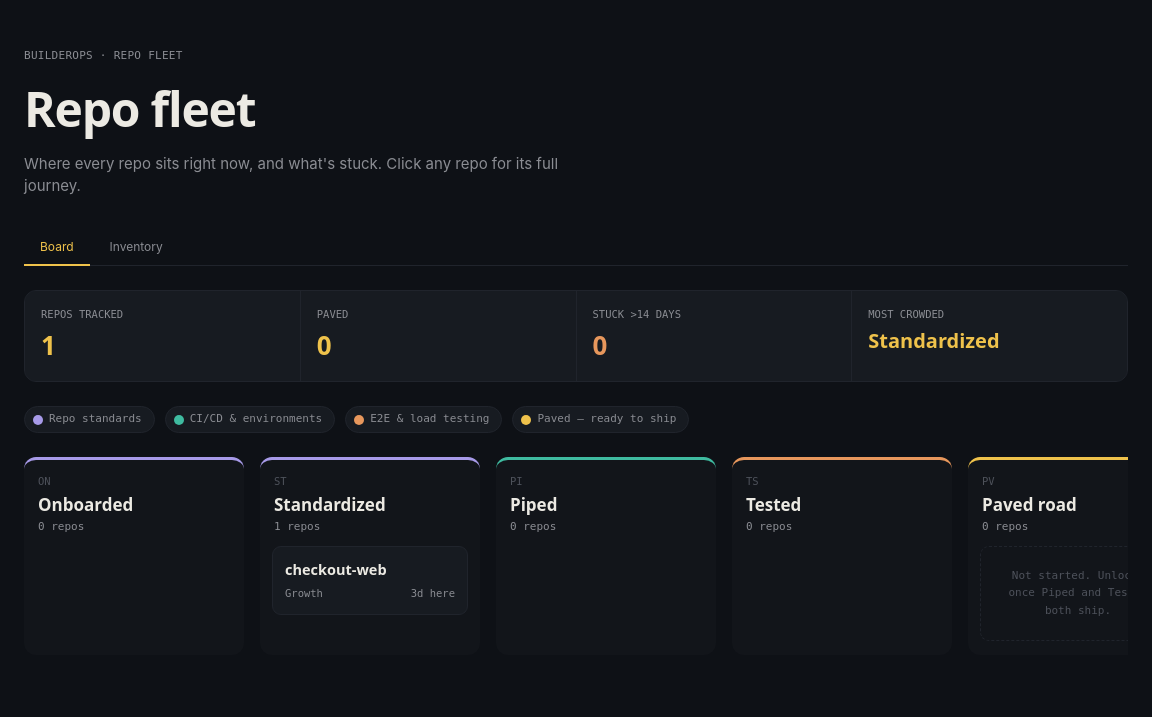
Scenario: FleetPage › navigates from the fleet board to a repo's Journey page on click
The width and height of the screenshot is (1152, 717).
Click the link "checkout-web Growth 3d here" at point(370, 580), box x1=272 y1=546 x2=468 y2=615
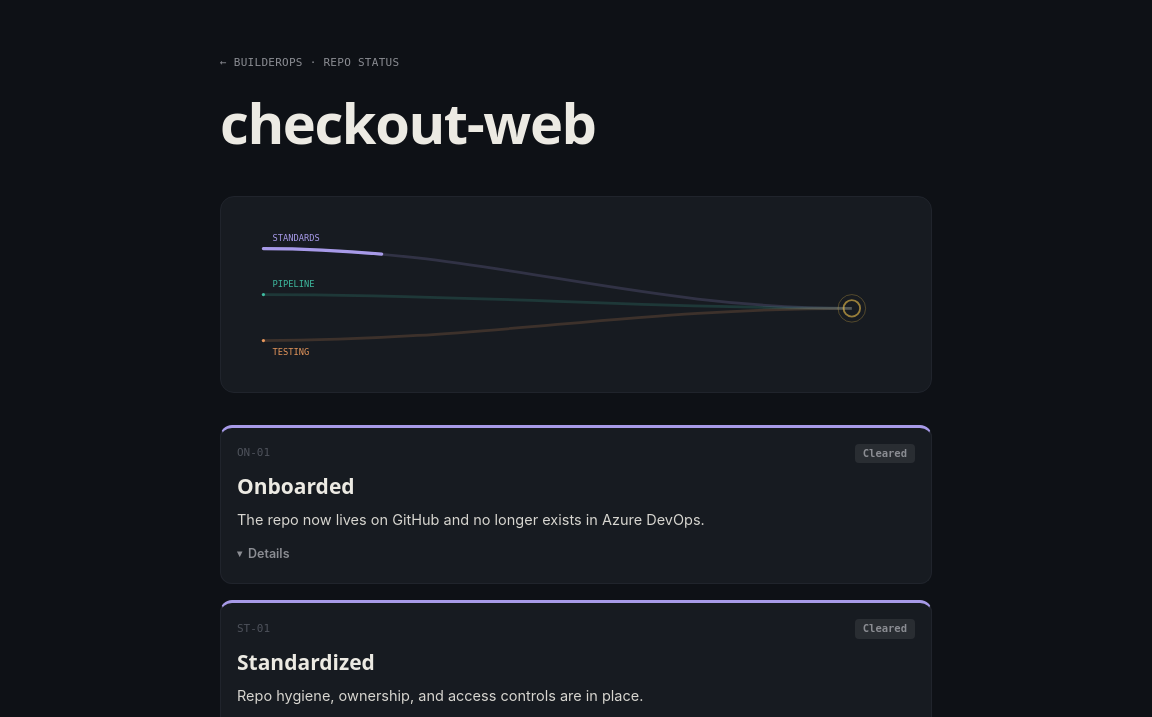
Check: the heading "checkout-web" is shown, box x1=220 y1=84 x2=596 y2=160
